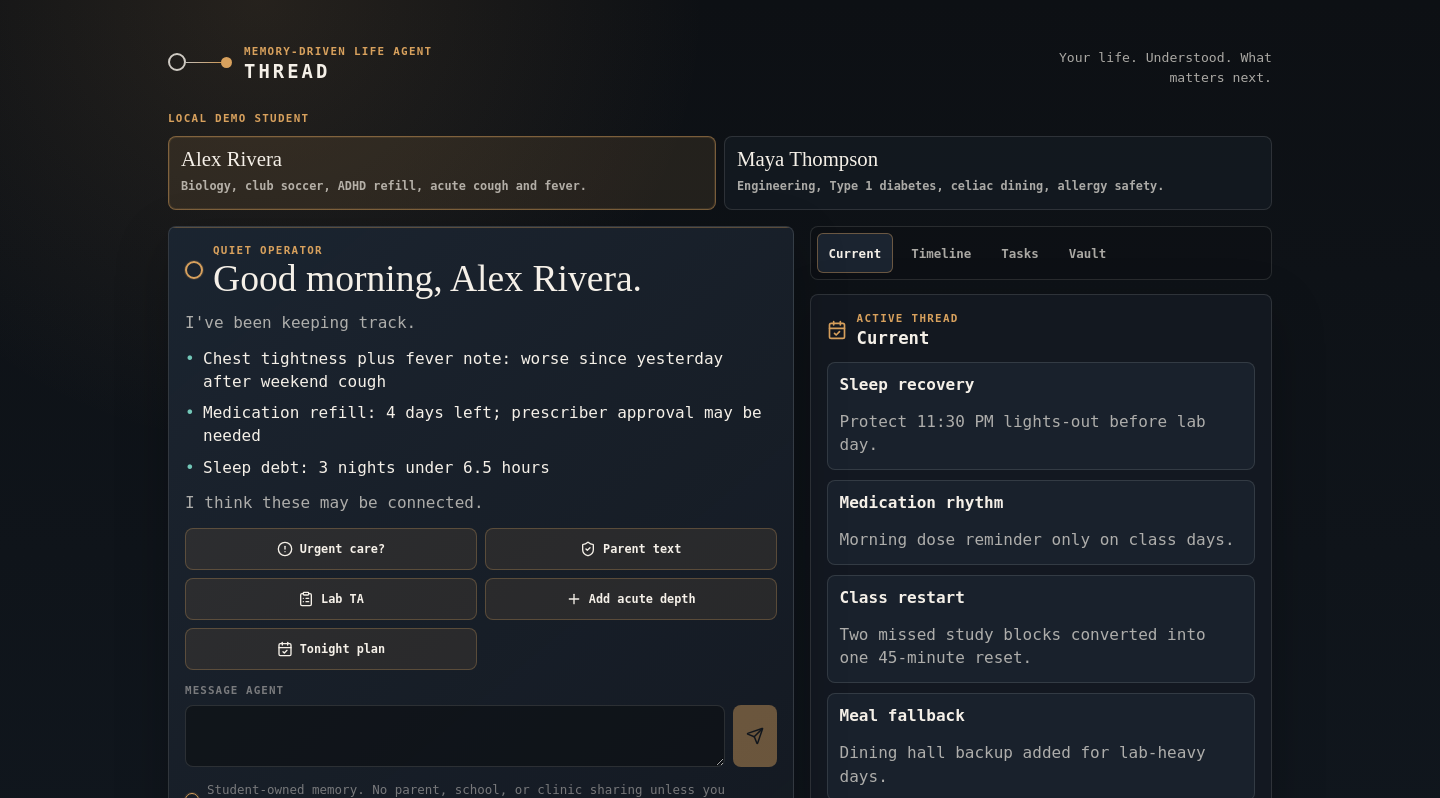
Test: THREAD app shell › switches the full local demo into another college student
The image size is (1440, 798).
Step 1. Click the button with aria-label "pretend as maya thompson" → (808, 159), box [724, 136, 1272, 210]
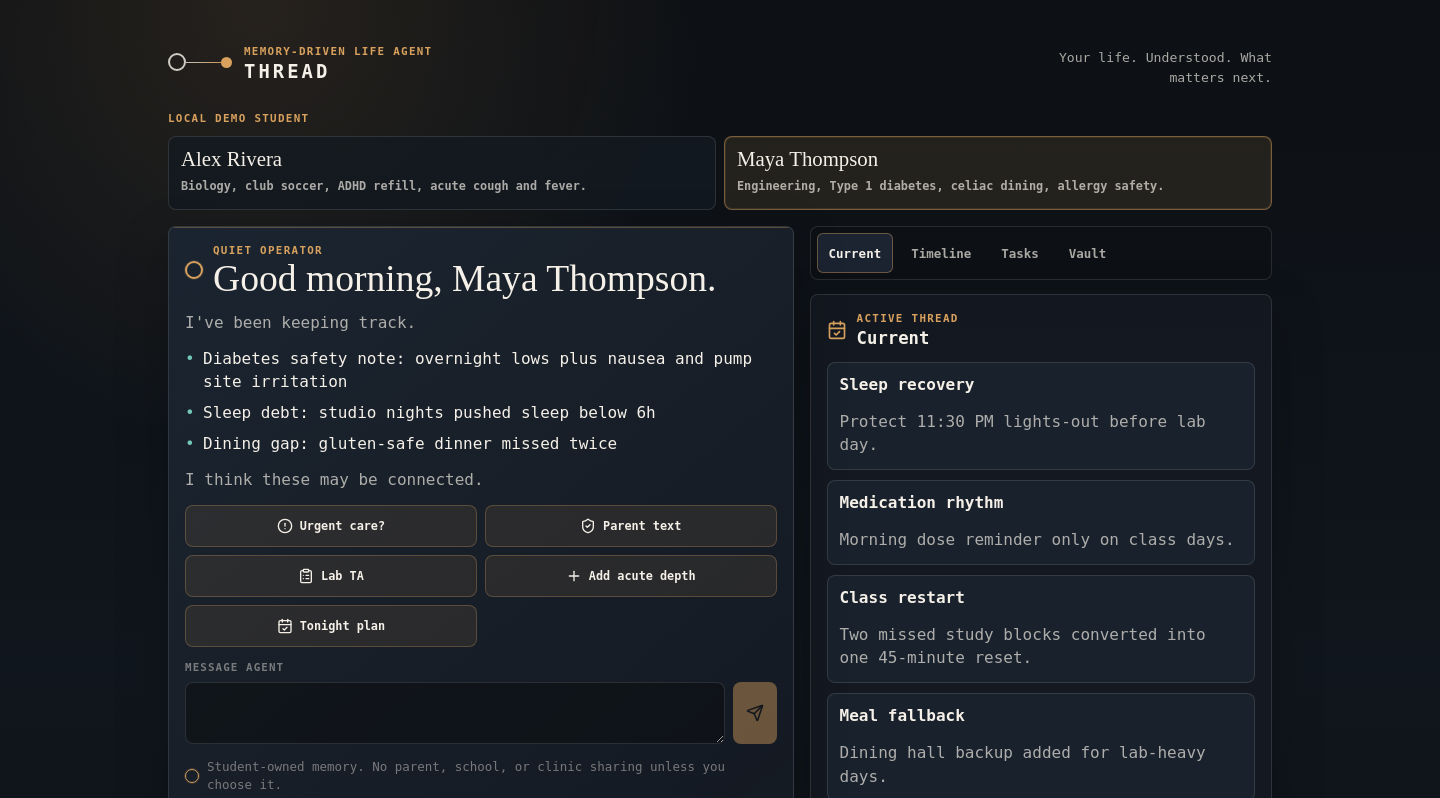
Check: the text "Engineering, Type 1 diabetes, celiac dining, allergy safety." is shown, box [737, 179, 1164, 193]
Check: the heading "Good morning, Maya Thompson." is shown, box [213, 260, 716, 297]
Step 2. Click the tab "Vault" → (1088, 254), box [1057, 234, 1118, 274]
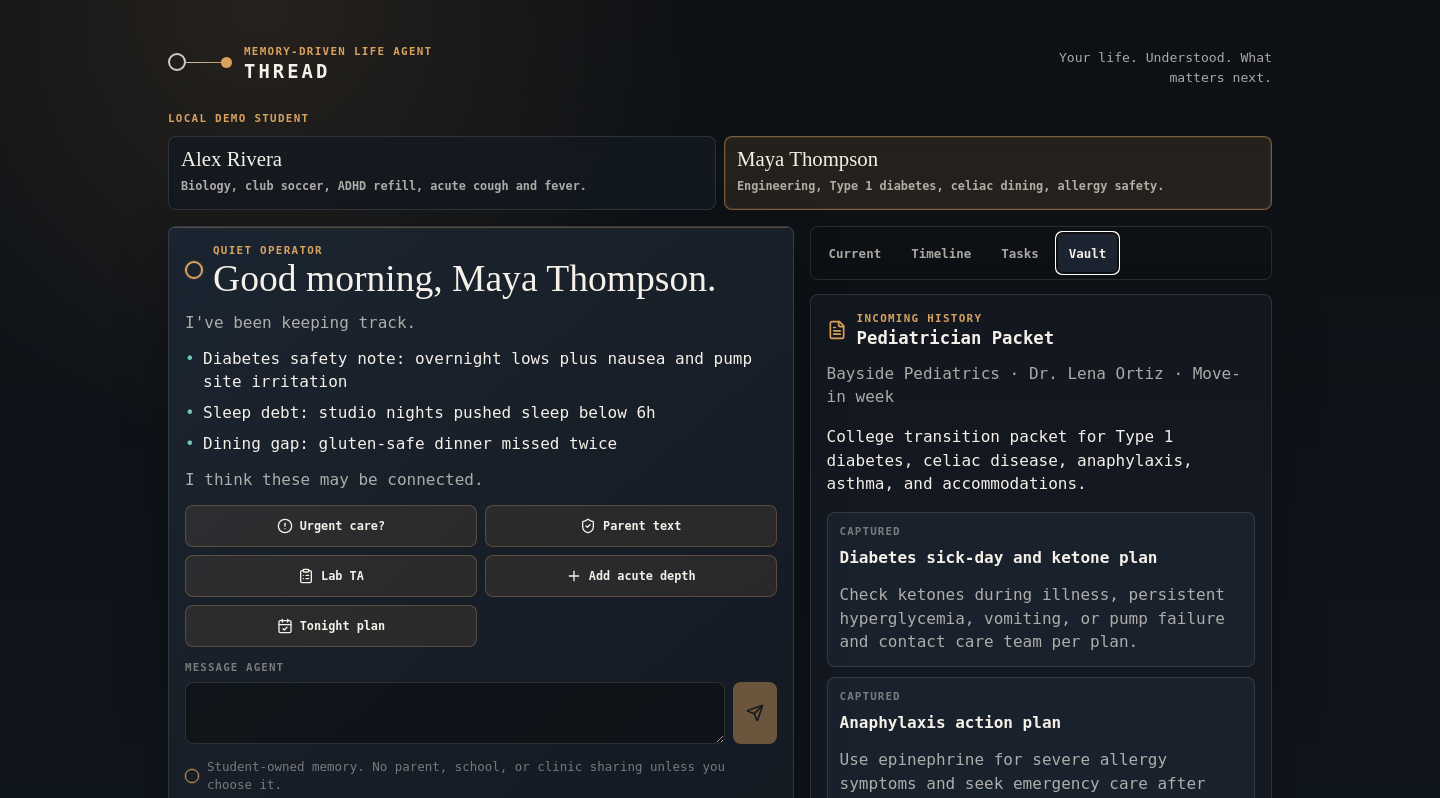
Check: the heading "Pediatrician Packet" is shown, box [857, 328, 1054, 348]
Check: the text "Bayside Pediatrics · Dr. Lena Ortiz · Move-in week" is shown, box [827, 362, 1255, 409]
Check: the text "Diabetes sick-day and ketone plan" is shown, box [840, 548, 1158, 567]
